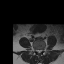CCS_normal: (38, 48, 40, 54)
LFS_normal: (41, 47, 43, 52)
LLS_normal: (40, 48, 41, 53)
RFS_normal: (35, 47, 36, 53)
RLS_normal: (36, 48, 38, 53)
